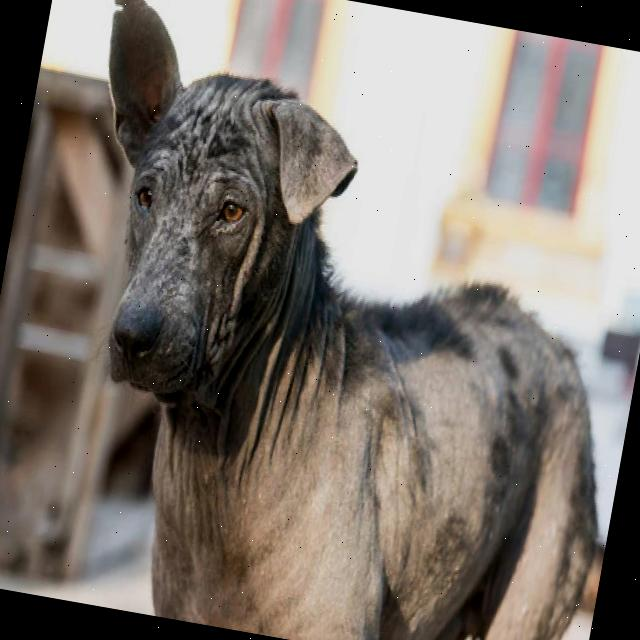cat-hairloss: (199, 308, 510, 640)
